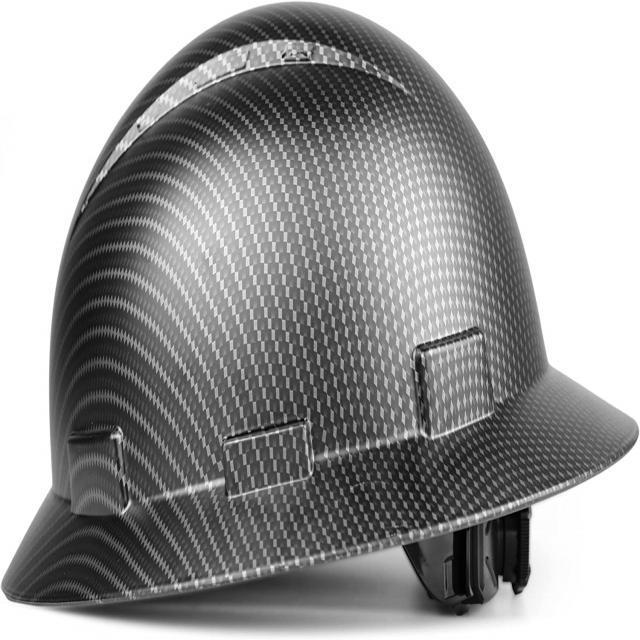safety_helmet: (2, 4, 640, 611)
